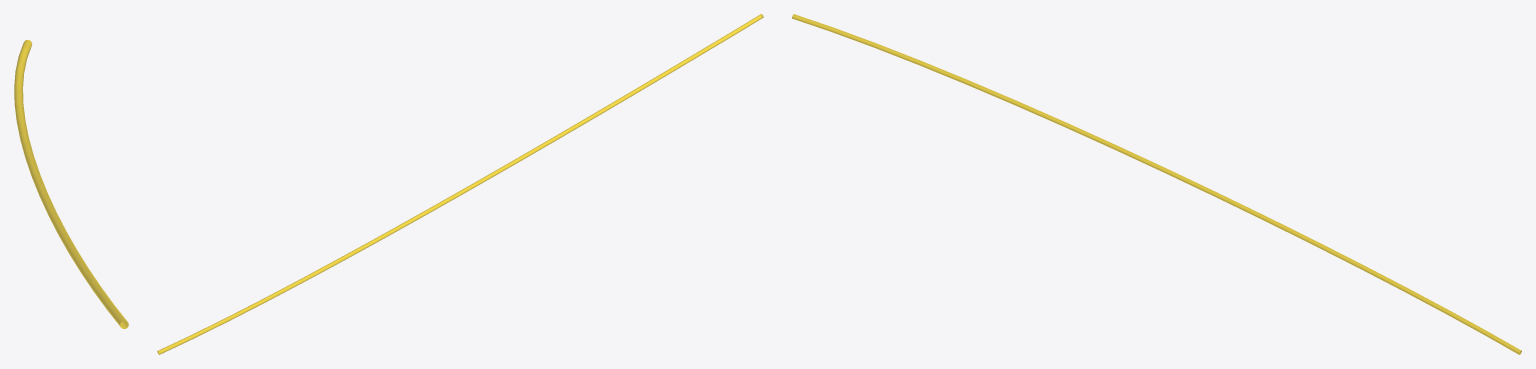
File: Event_15818458_track_17.fbx
3 renders of one model, left to right at view 1: azimuth 90°, elevation 25°; view 2: azimuth 210°, elevation 25°; view 3: azimuth 330°, elevation 25°, orthographic. The views are drawn at different scales.
Visible parts, largest first — view 1: Model; view 2: Model; view 3: Model.
Boxes of the visible parts, x1,y1,x2,y2 form: Model: (14, 40, 128, 328); Model: (157, 14, 763, 354); Model: (792, 14, 1521, 354).
Bounding box in the file's own units: 6.54 × 1.69 × 0.5167.
